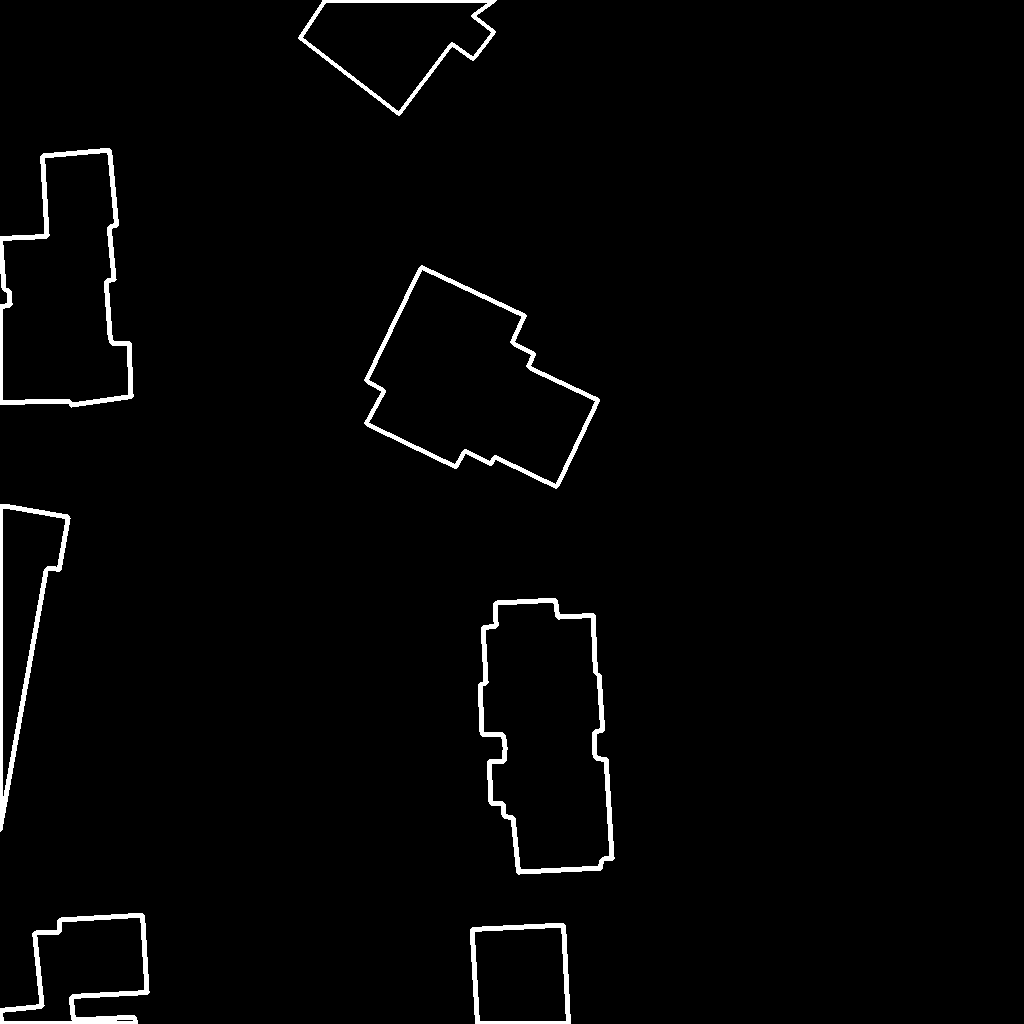building: (366, 267, 599, 488), (480, 600, 613, 873), (0, 150, 132, 406), (300, 0, 497, 115), (0, 506, 69, 833), (0, 915, 148, 1024), (472, 925, 570, 1024)
